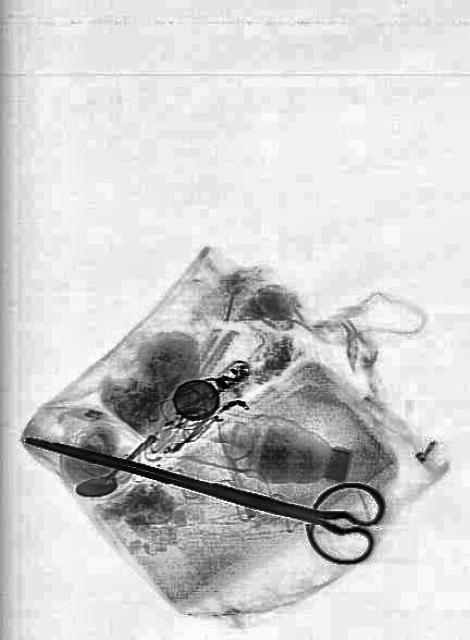Scissors: (18, 400, 386, 570)
